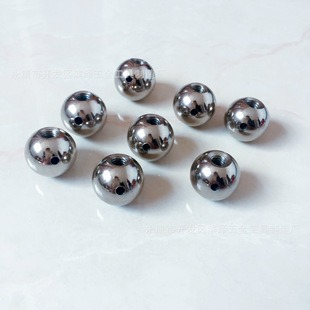ironball: (91, 153, 143, 206), (189, 149, 240, 201), (24, 126, 76, 177), (126, 113, 174, 161), (60, 90, 107, 137), (223, 96, 269, 142), (172, 81, 215, 127), (113, 57, 155, 101)
